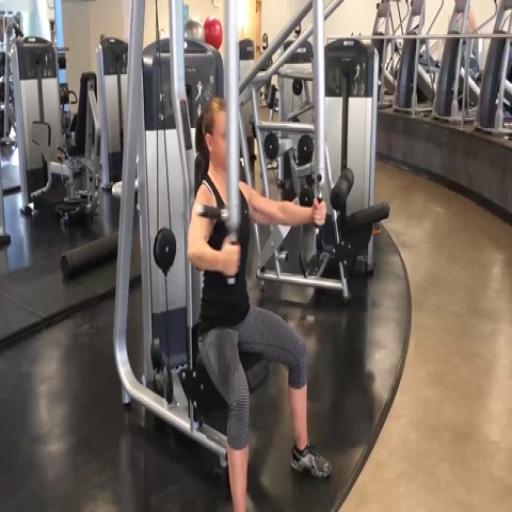exercise: (184, 94, 335, 510)
